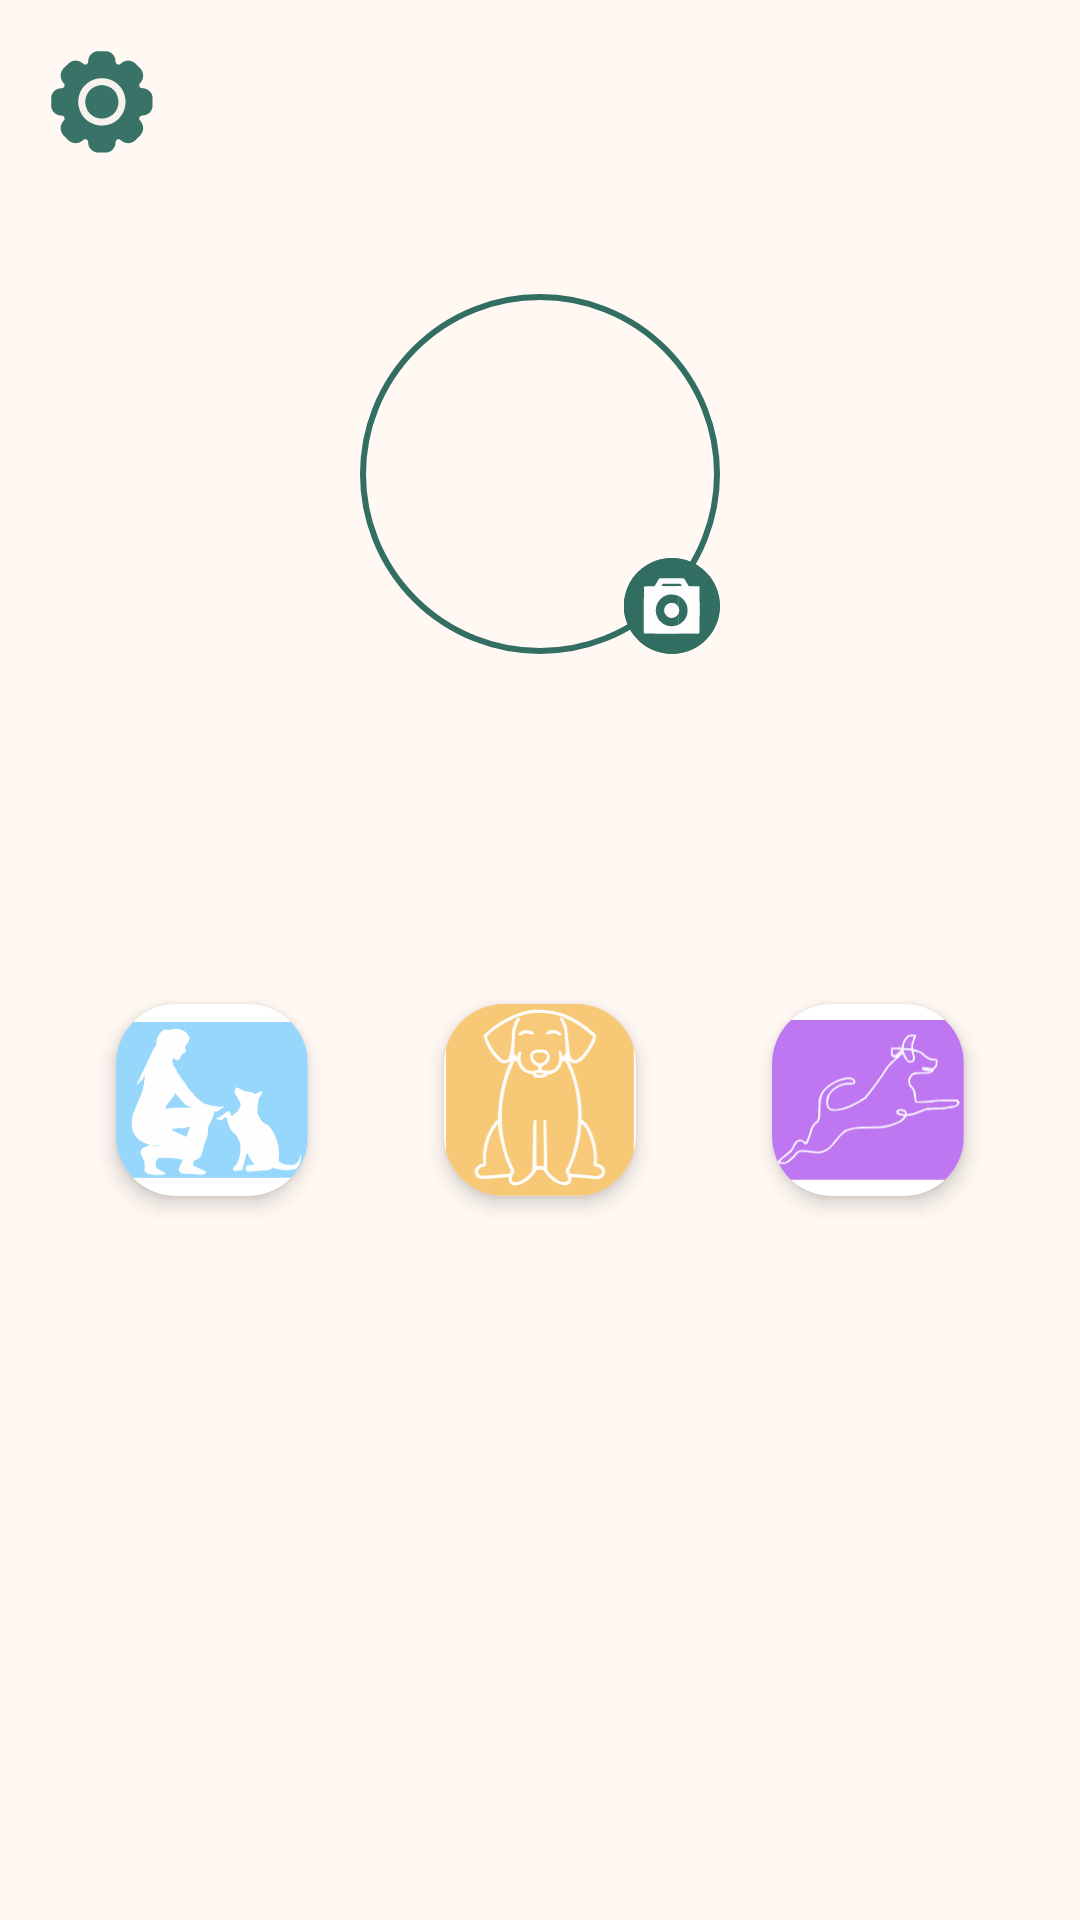

Screen size 1080×1920. Icon name, then its center in pixels as point (x, y):
camera: point (672, 606)
energetic: point (868, 1108)
friendly: point (212, 1109)
settings: point (102, 102)
